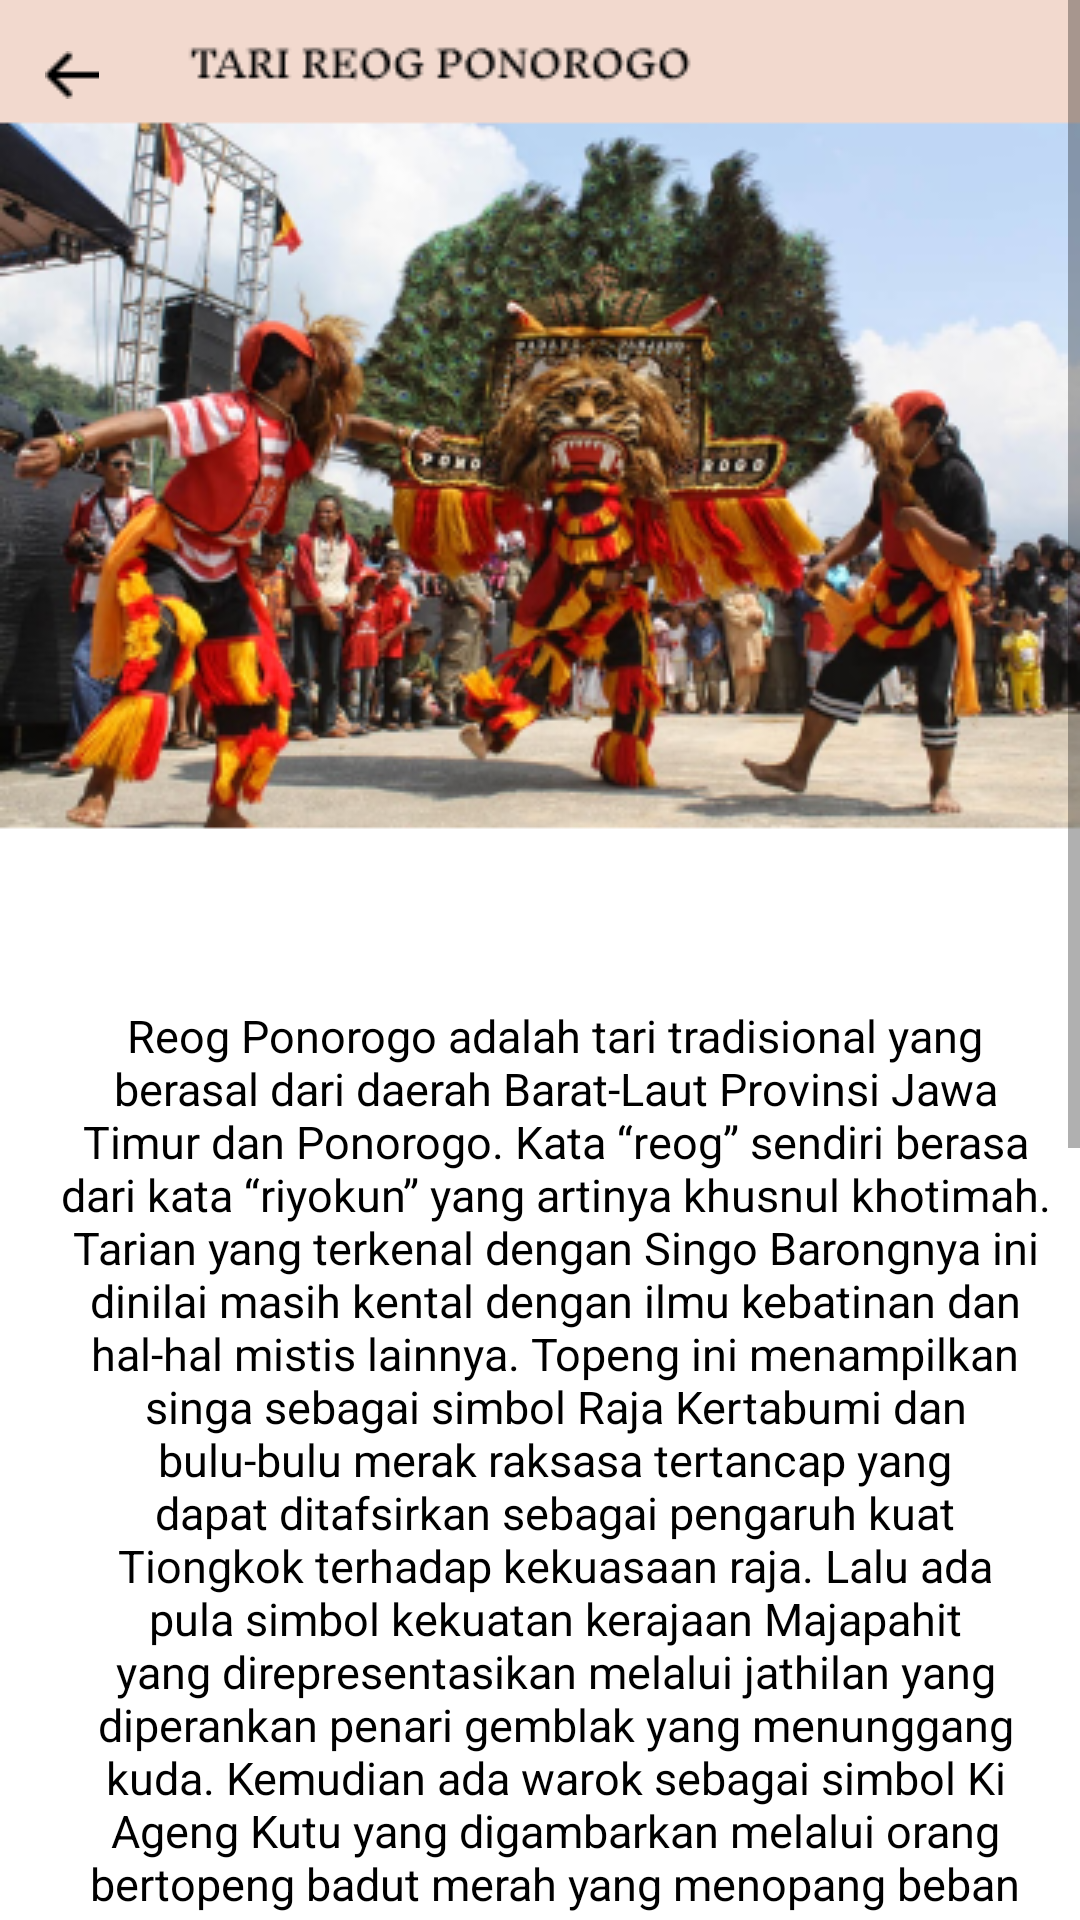

Named icons in this screenshot (1080 × 1920) and their bounding boxes, (x1, y1, x2, y2):
back: (45, 51, 99, 99)
